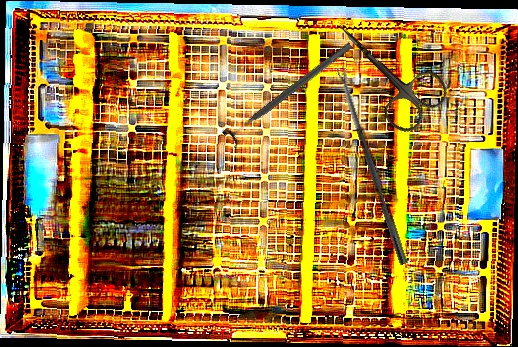Fixation Ring: (220, 34, 359, 151)
Iris Scissors: (316, 0, 454, 140)
Surgical Spoon: (336, 65, 409, 266)
